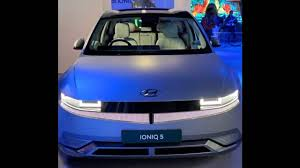Honda Ioniq: (57, 5, 242, 168)
